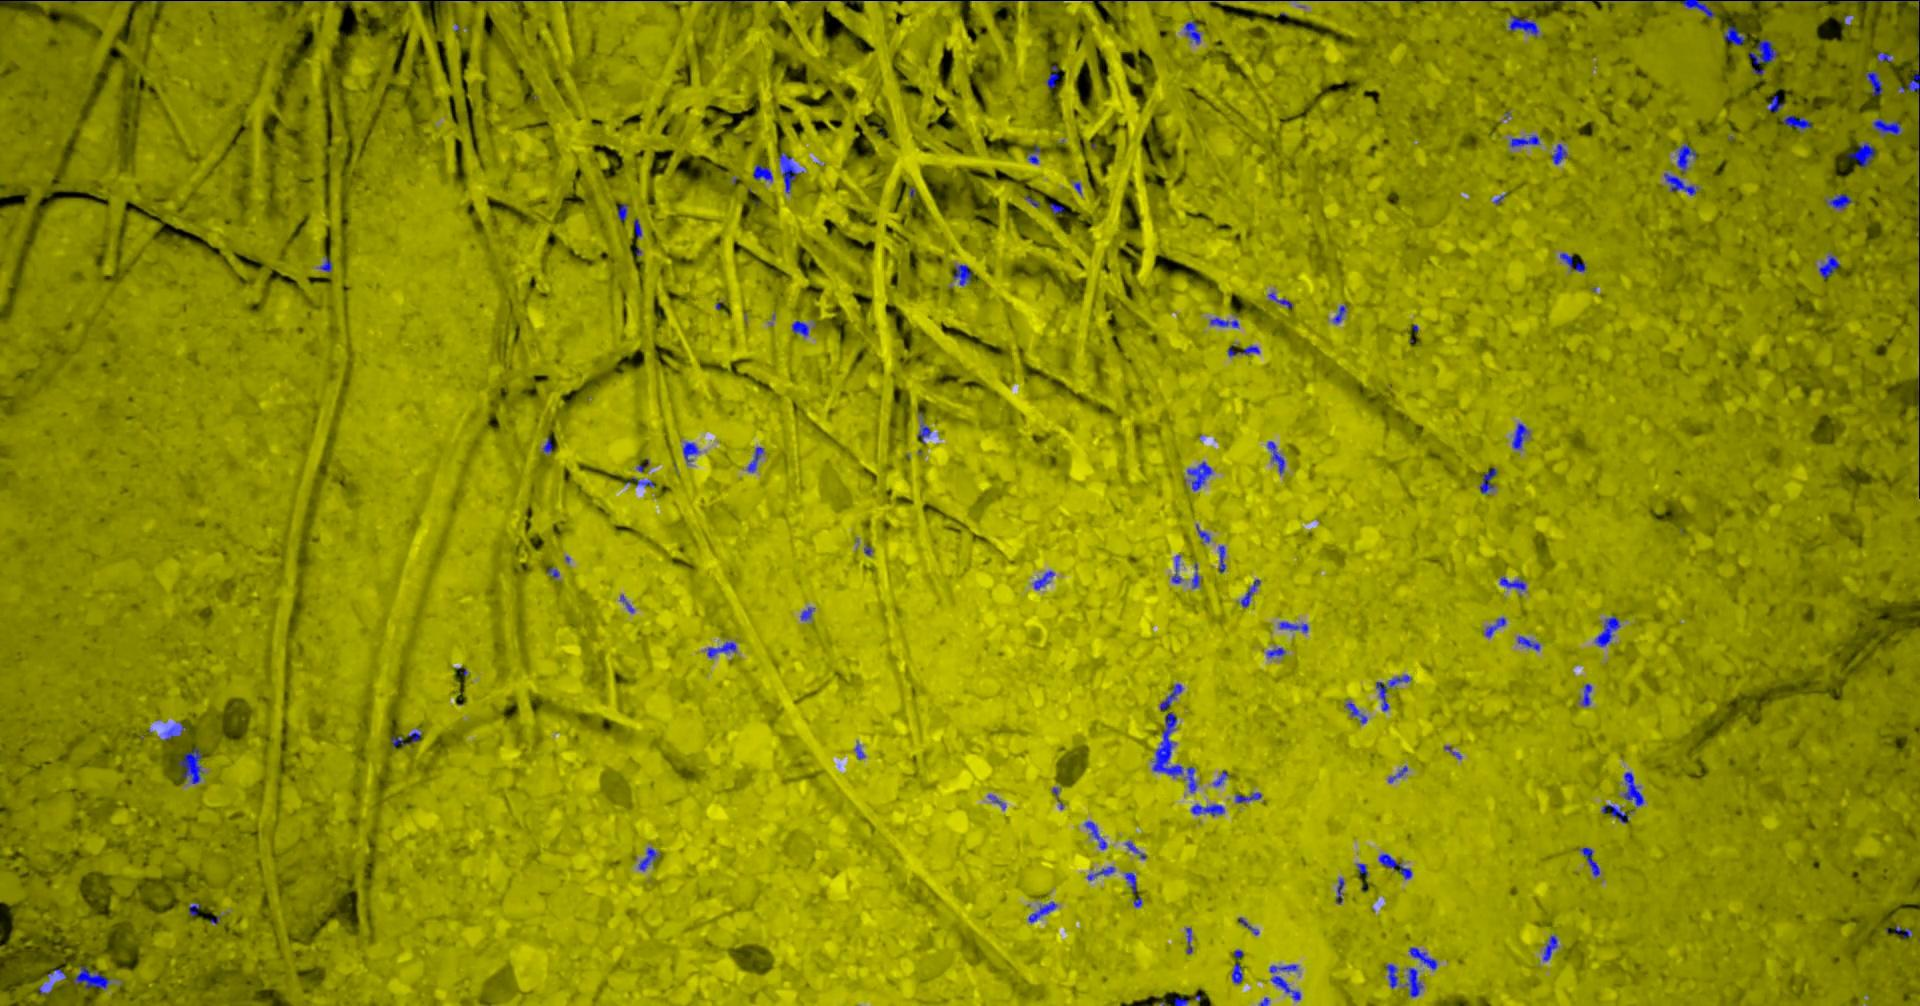ant: (1150, 713, 1196, 793), (1375, 674, 1410, 710), (1269, 964, 1300, 1000), (1749, 39, 1777, 75), (177, 747, 203, 782), (1666, 0, 1714, 18), (1594, 615, 1620, 647), (72, 967, 109, 989), (1378, 854, 1411, 879), (1663, 171, 1697, 196), (778, 152, 797, 193), (1622, 771, 1643, 807), (1186, 461, 1211, 490), (1848, 141, 1876, 166), (1027, 901, 1057, 922), (1084, 821, 1106, 848), (1408, 948, 1436, 969), (1509, 15, 1538, 36), (1676, 144, 1697, 173), (1159, 683, 1182, 709), (1578, 847, 1599, 875), (1239, 579, 1258, 607), (1267, 441, 1284, 473), (1404, 967, 1422, 996), (1818, 254, 1839, 279), (1898, 70, 1919, 94), (1559, 251, 1585, 271), (1872, 118, 1901, 135), (745, 446, 763, 473), (1601, 804, 1628, 822), (1345, 701, 1366, 723), (637, 847, 658, 870), (1864, 70, 1882, 95), (1479, 467, 1496, 494), (1190, 803, 1224, 815), (1509, 133, 1539, 147), (707, 641, 735, 657), (1511, 423, 1528, 448), (1722, 25, 1743, 44), (1032, 570, 1054, 589), (1124, 840, 1145, 859), (1782, 116, 1811, 130), (1825, 193, 1851, 208), (1267, 291, 1291, 307), (952, 264, 971, 285), (1484, 617, 1505, 636), (1542, 935, 1557, 960), (164, 721, 185, 739), (1183, 20, 1200, 43), (1498, 575, 1525, 589), (1087, 866, 1114, 880), (752, 163, 772, 180), (682, 442, 698, 462), (1279, 621, 1308, 633), (1517, 635, 1539, 650), (1227, 345, 1258, 356), (1550, 144, 1566, 164), (1171, 554, 1181, 583), (1766, 94, 1783, 112), (1046, 65, 1059, 88), (1385, 963, 1397, 988), (1124, 871, 1137, 893), (1195, 525, 1210, 542), (1209, 318, 1238, 326), (917, 422, 930, 442), (791, 320, 808, 335), (1230, 962, 1242, 983), (1234, 793, 1261, 801), (1581, 683, 1591, 706), (1332, 305, 1345, 323), (1027, 145, 1039, 163), (631, 478, 654, 486), (1218, 545, 1225, 572), (1336, 876, 1343, 903), (319, 255, 331, 271), (1191, 563, 1199, 588), (1266, 647, 1285, 657), (1185, 927, 1192, 953), (1895, 926, 1911, 937), (800, 607, 814, 620), (632, 218, 641, 238), (617, 203, 627, 220), (1356, 862, 1368, 876), (1876, 51, 1891, 61), (390, 735, 403, 747), (1173, 996, 1189, 1005), (1835, 0, 1890, 1)
